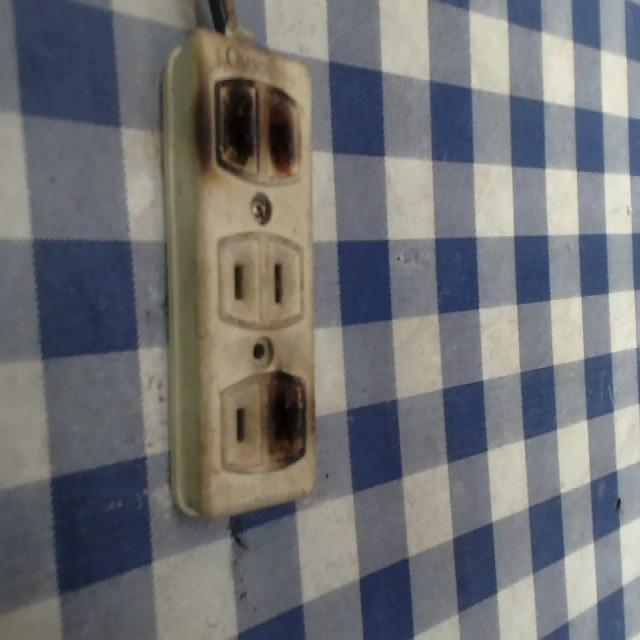-: (186, 62, 309, 190), (258, 364, 317, 473)
